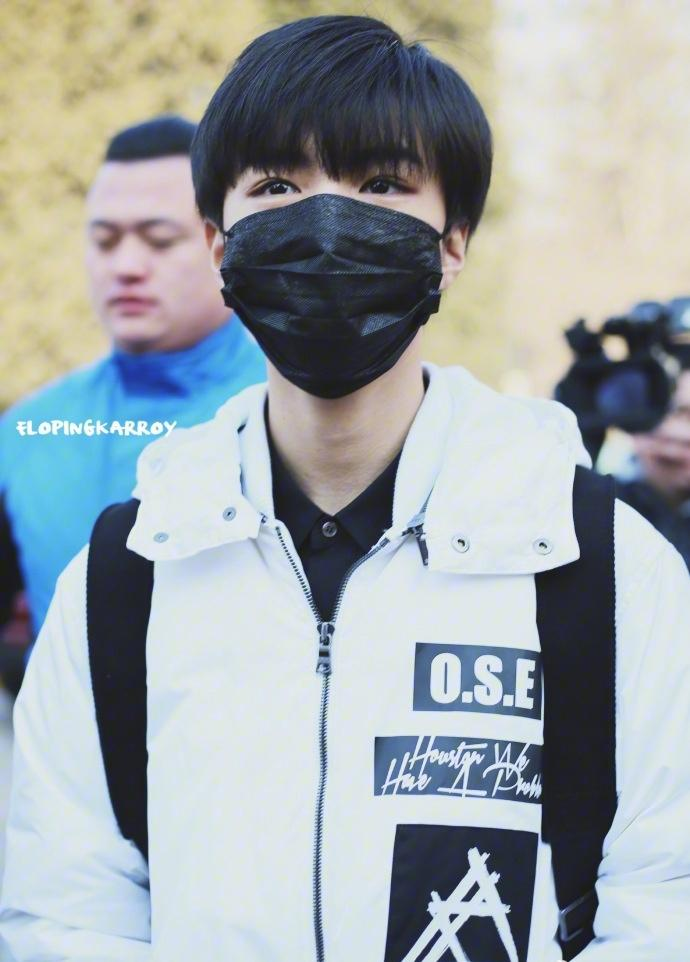face: (86, 155, 209, 349), (635, 381, 690, 493)
face_mask: (229, 86, 444, 390)
